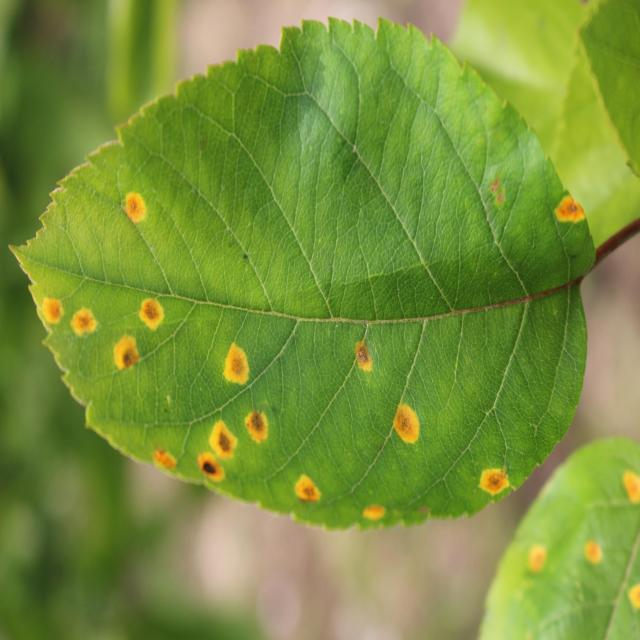Rust: (107, 326, 151, 388), (110, 180, 156, 232), (213, 337, 254, 394), (194, 418, 248, 458), (548, 179, 588, 232), (392, 395, 424, 456), (136, 292, 173, 341), (146, 434, 184, 479), (68, 297, 104, 342), (241, 404, 276, 449), (471, 462, 515, 496), (289, 469, 326, 509), (35, 288, 67, 332), (612, 467, 640, 516), (576, 531, 606, 576), (348, 337, 379, 378), (526, 539, 552, 586), (192, 453, 231, 484), (362, 501, 392, 526)
